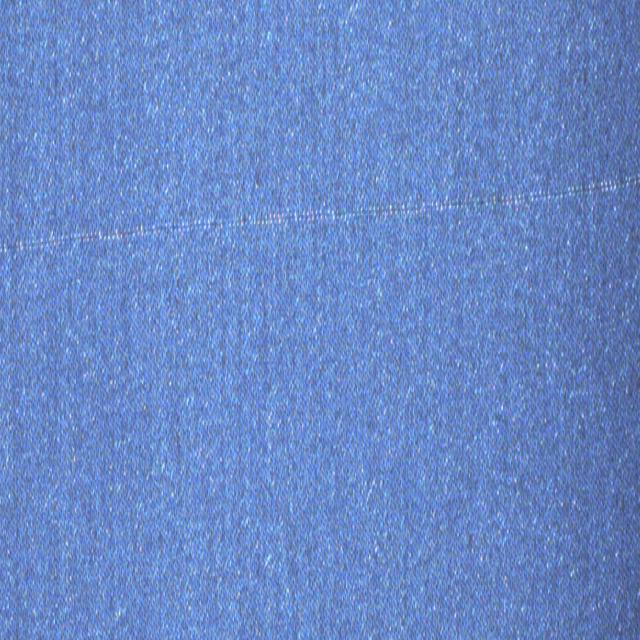Line: (0, 173, 640, 258)
